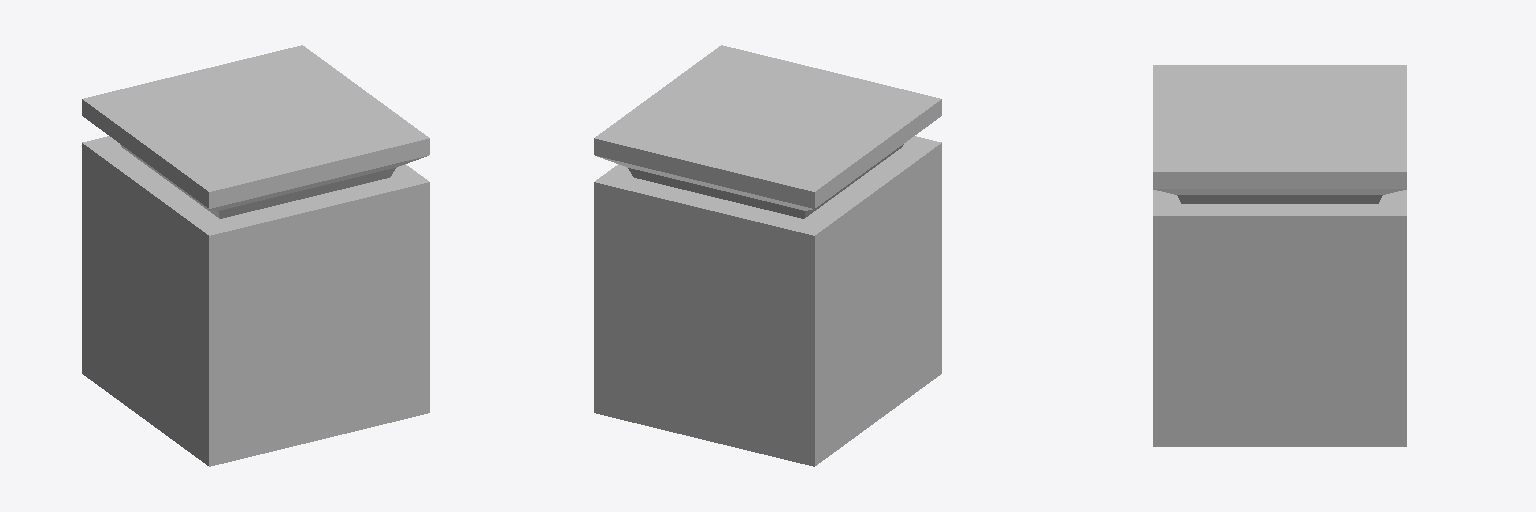
Rendered from AnimatedBox_000191.obj.
3 renders of one model, left to right at view 1: azimuth 30°, elevation 25°; view 2: azimuth 150°, elevation 25°; view 3: azimuth 270°, elevation 25°, orthographic.
Parts seen in each view (by area): view 1: Cube, Cube.001; view 2: Cube, Cube.001; view 3: Cube, Cube.001.
Part boxes in pixels (x1,y1,x2,y2): Cube: (82,136,429,466); Cube.001: (82,45,429,218); Cube: (594,136,941,466); Cube.001: (594,45,941,218); Cube: (1153,190,1406,446); Cube.001: (1153,65,1406,203).
Size of the model in its own units: 2 by 2.38 by 2.